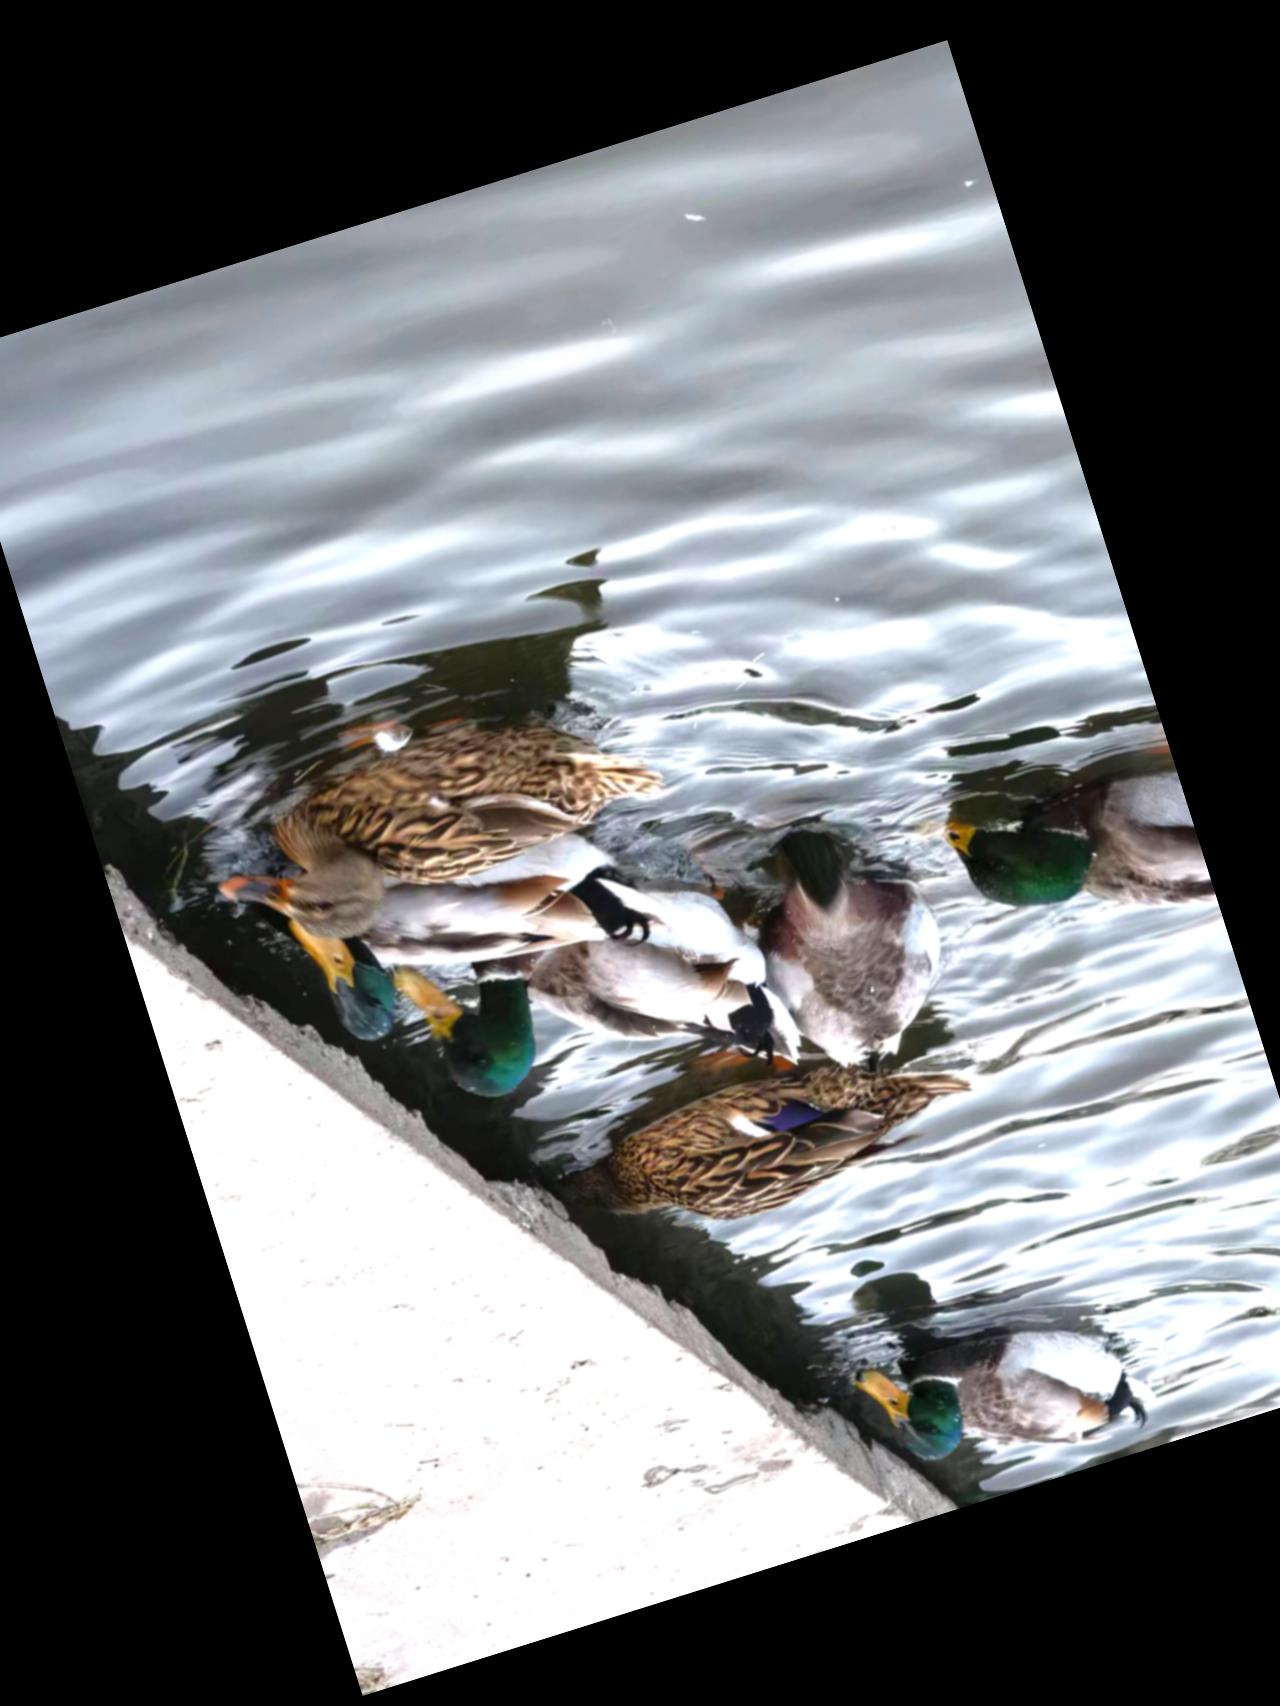duck: (204, 674, 683, 963), (542, 1004, 1037, 1283), (393, 834, 819, 1140), (269, 786, 687, 1069), (817, 1235, 1186, 1518), (916, 747, 1217, 981), (727, 812, 977, 1089)
